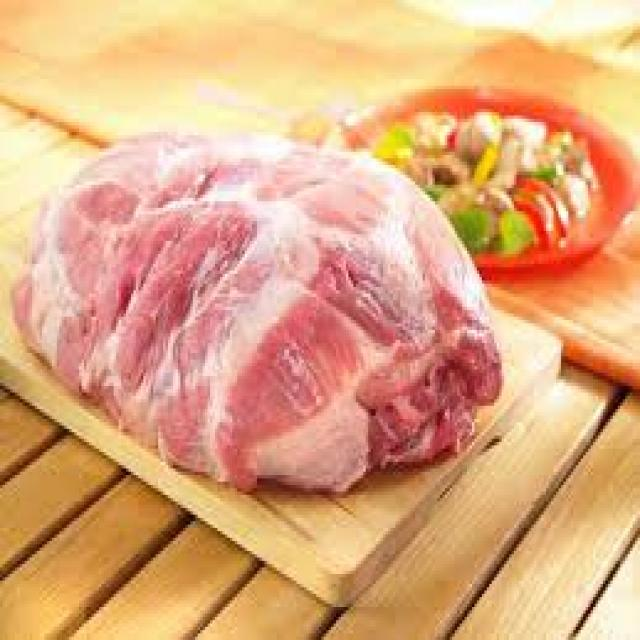Pork: (15, 135, 504, 493)
